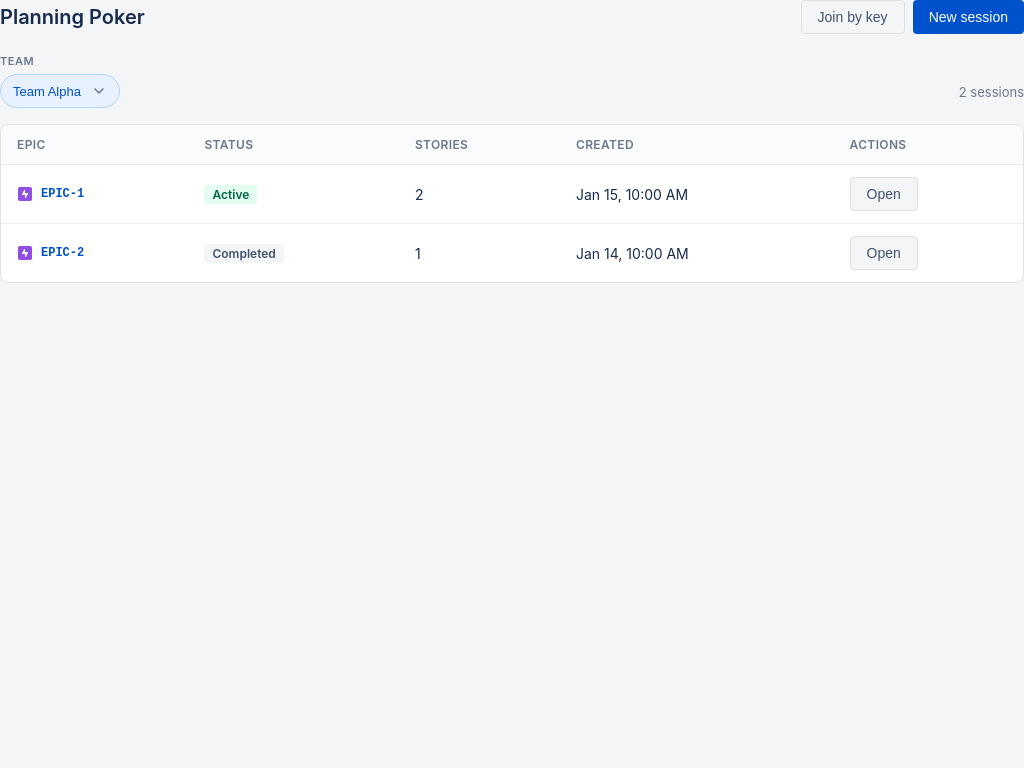
PlanningPokerPage › Join by epic key modal › should open modal on "Join by key" click
Click the button "Join by key": (853, 17) top-left (801, 0), bottom-right (905, 34)
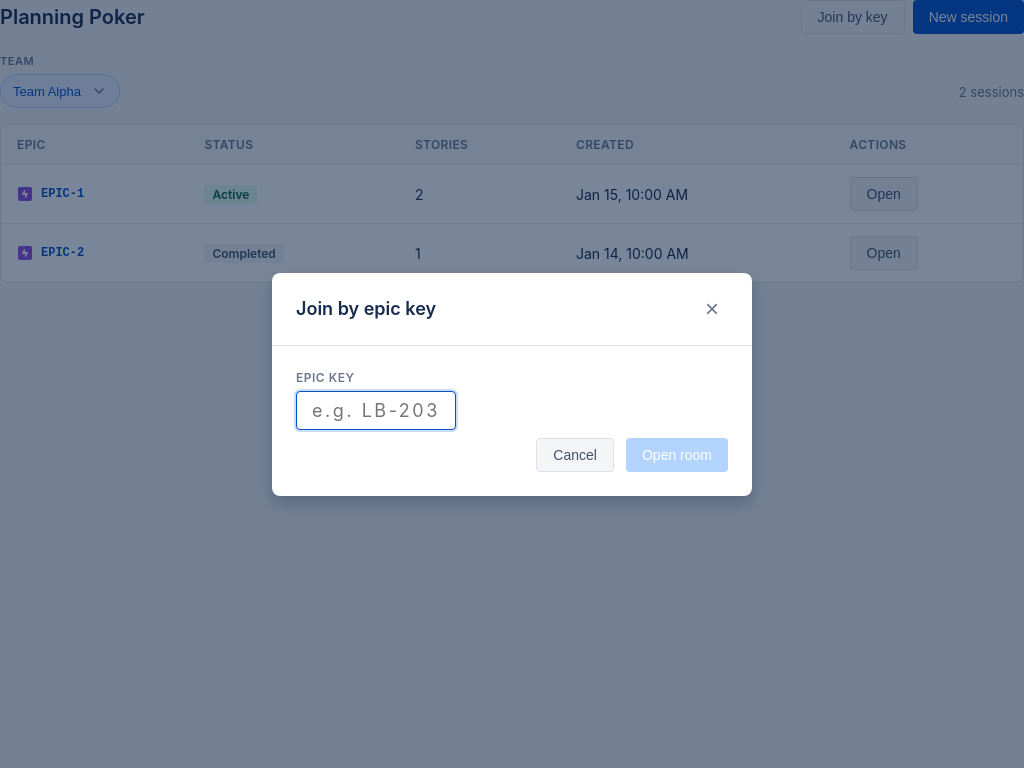
Result: the heading "Join by epic key" is shown at top-left (296, 298), bottom-right (436, 319)
